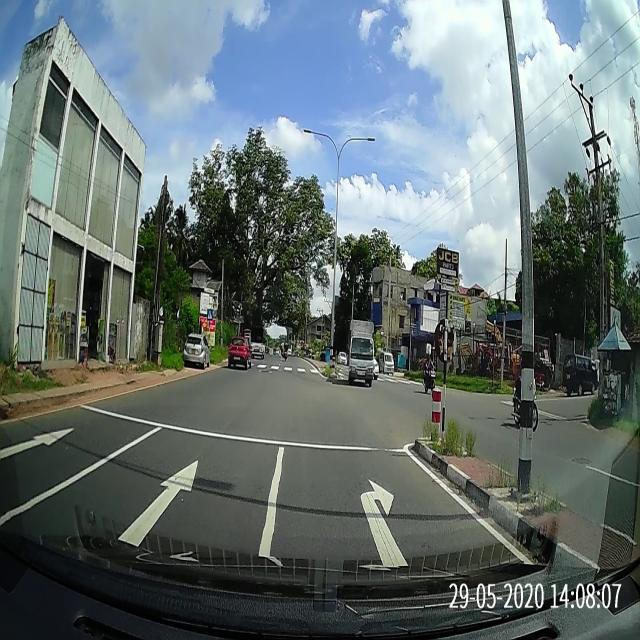Strelka vpered: (117, 459, 199, 547), (0, 428, 76, 459)
Strelka vpravo: (360, 479, 409, 566)
